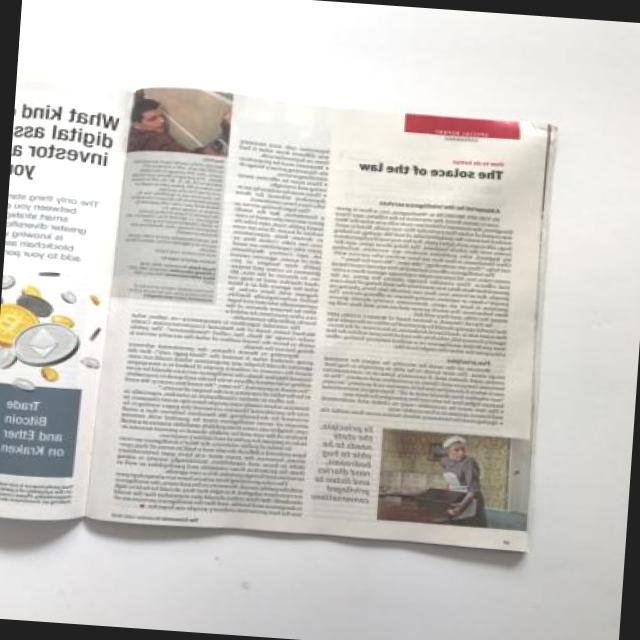paper: (0, 57, 569, 546)
